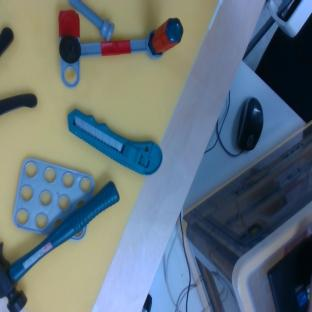pass: (59, 10, 183, 86)
